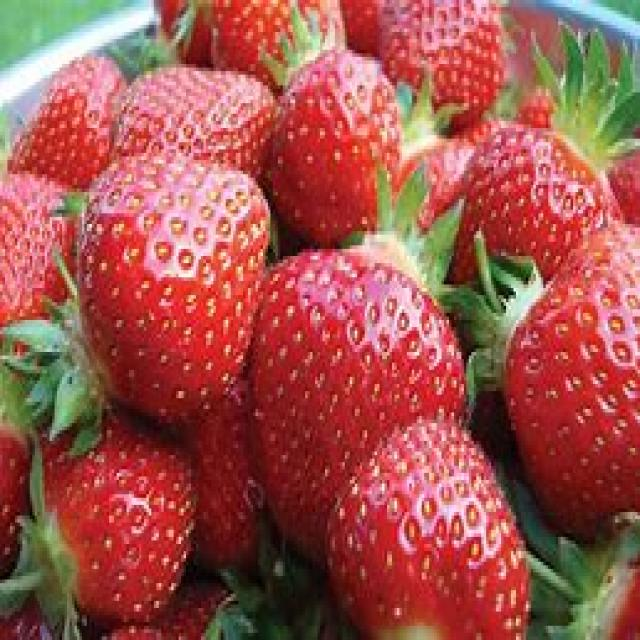strawberry: (75, 158, 261, 420), (501, 288, 640, 533), (264, 247, 462, 418), (46, 423, 196, 626), (329, 494, 530, 640), (276, 48, 398, 237), (117, 60, 269, 159), (454, 130, 598, 233), (400, 0, 502, 124), (43, 55, 112, 174)
